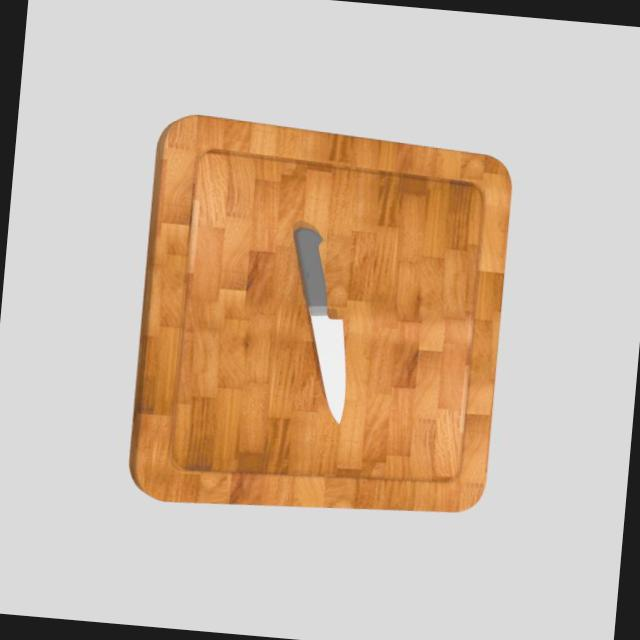knife: (286, 227, 332, 308)
